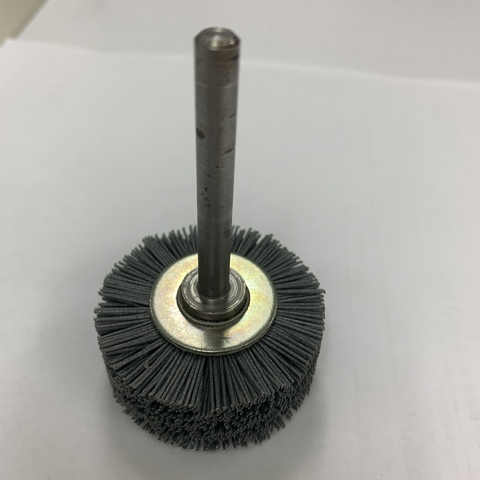Wheel Brush: (84, 14, 358, 448), (61, 158, 427, 465), (123, 20, 365, 451), (57, 43, 303, 436)
